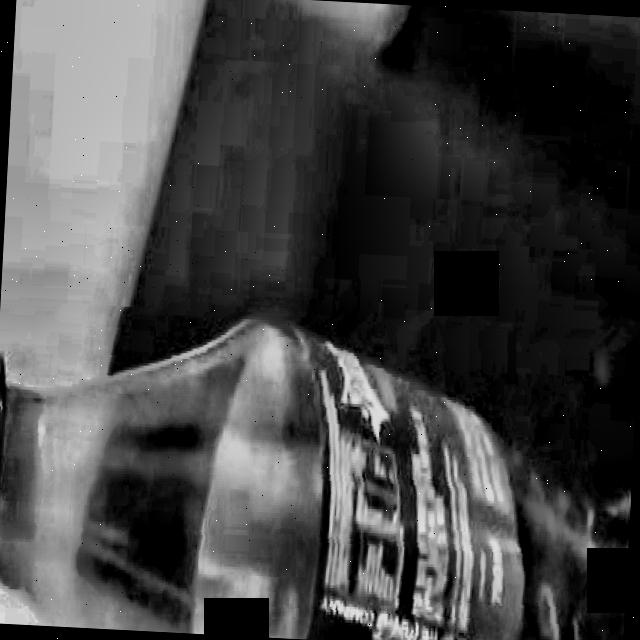bottle: (0, 315, 629, 640)
